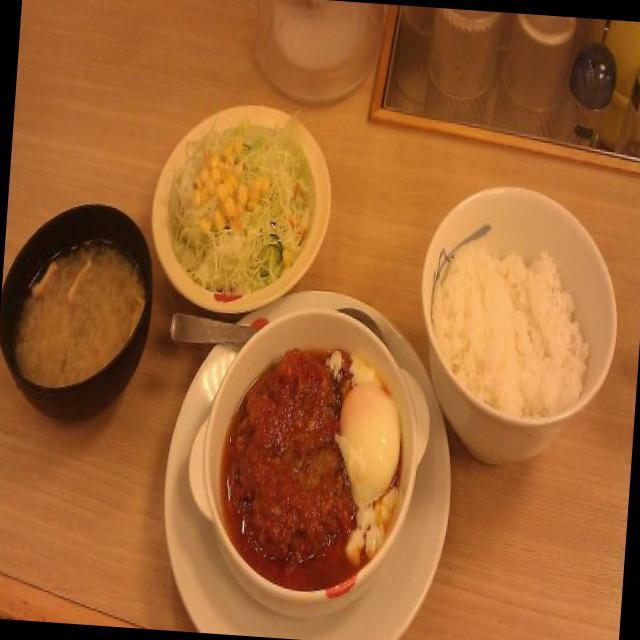Rice: (421, 215, 600, 412)
